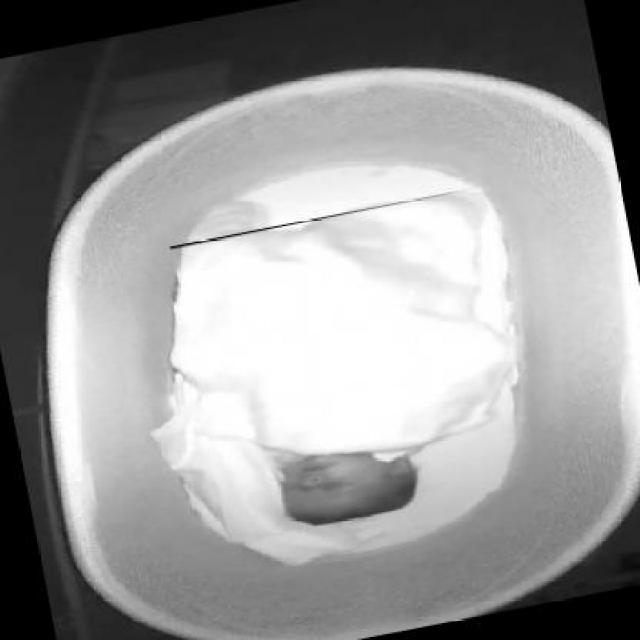child: (167, 184, 538, 542)
